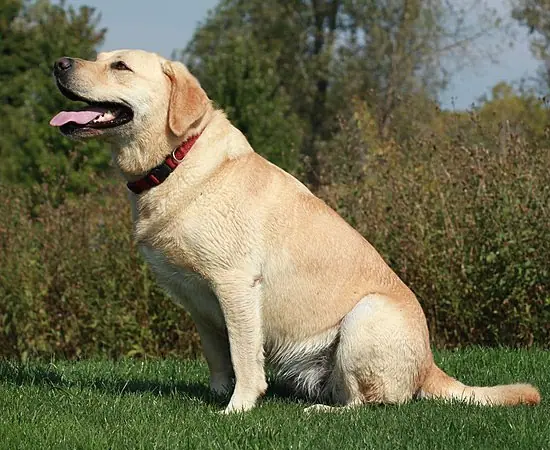dog: (49, 49, 545, 420)
